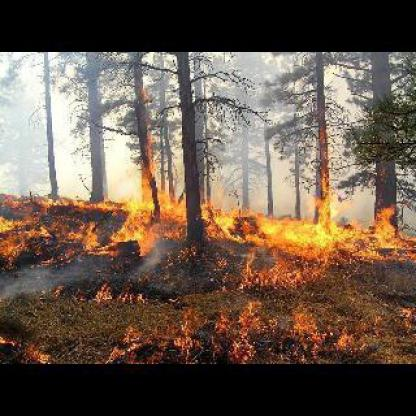fire: (0, 129, 416, 269)
